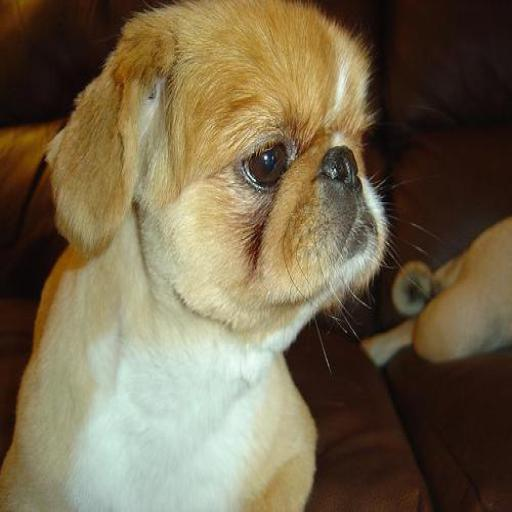dog_face: (51, 16, 409, 319)
